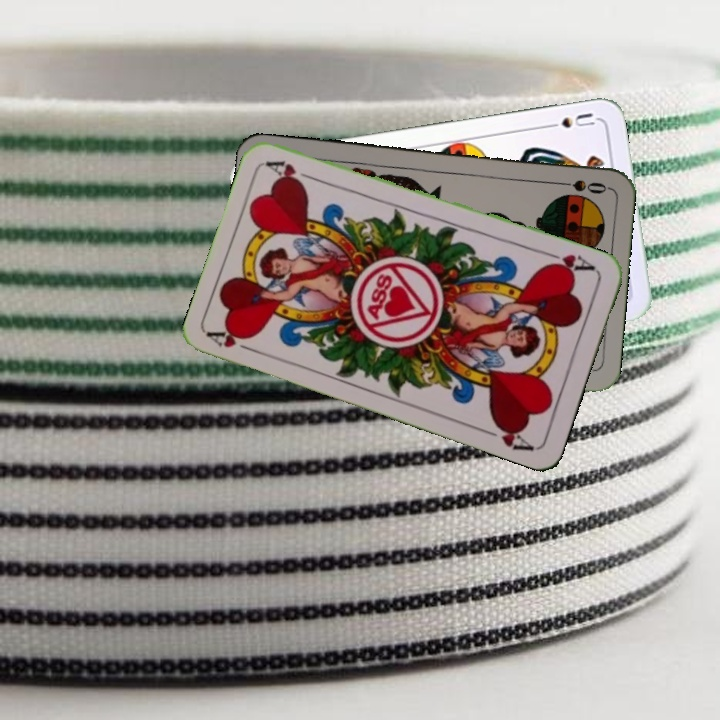HA: (205, 324, 263, 357), (540, 247, 598, 277)
SO: (550, 175, 609, 196)
SU: (540, 108, 597, 131)
